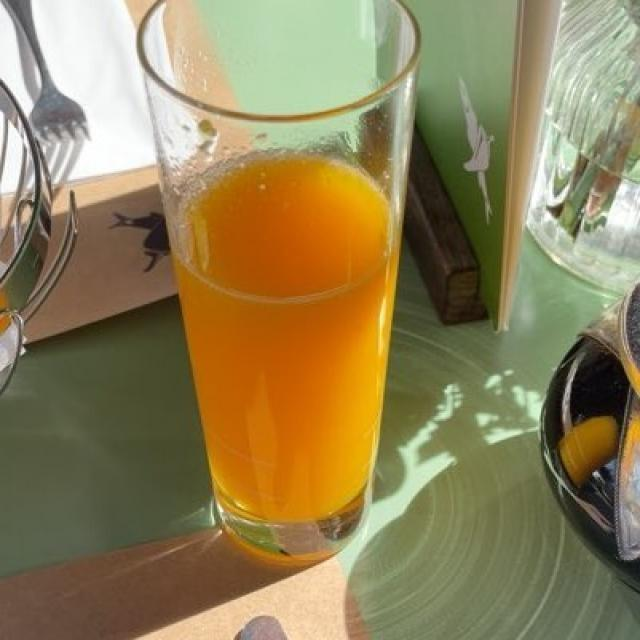juice: (175, 146, 395, 524)
